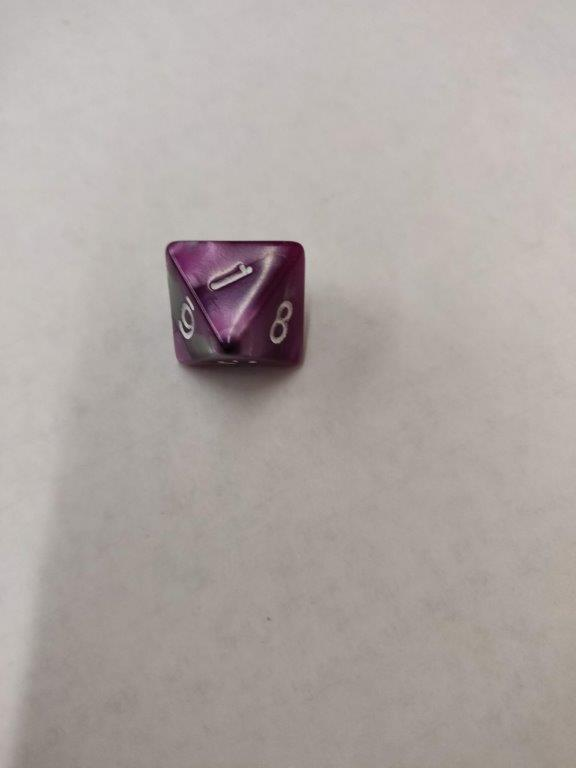d8-1: (164, 238, 306, 366)
